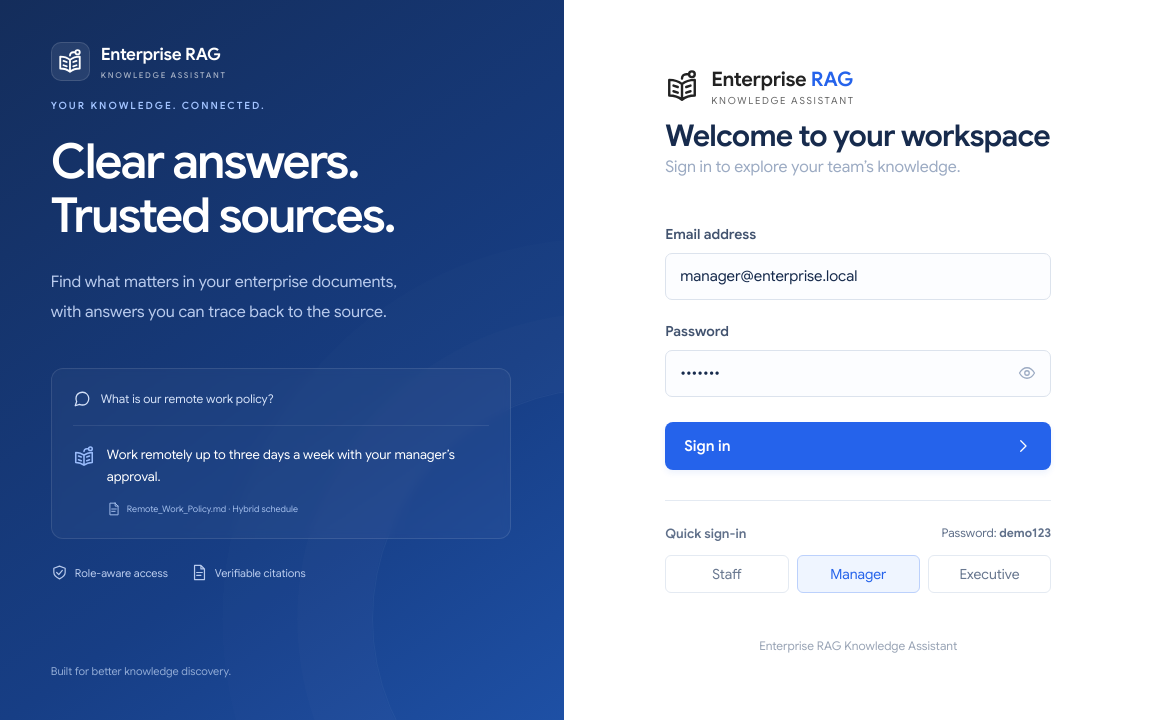
frontend independent workflows › shows a forbidden search error while keeping the user signed in
Click the button "Sign in" at (707, 446), box x1=665 y1=422 x2=1051 y2=470
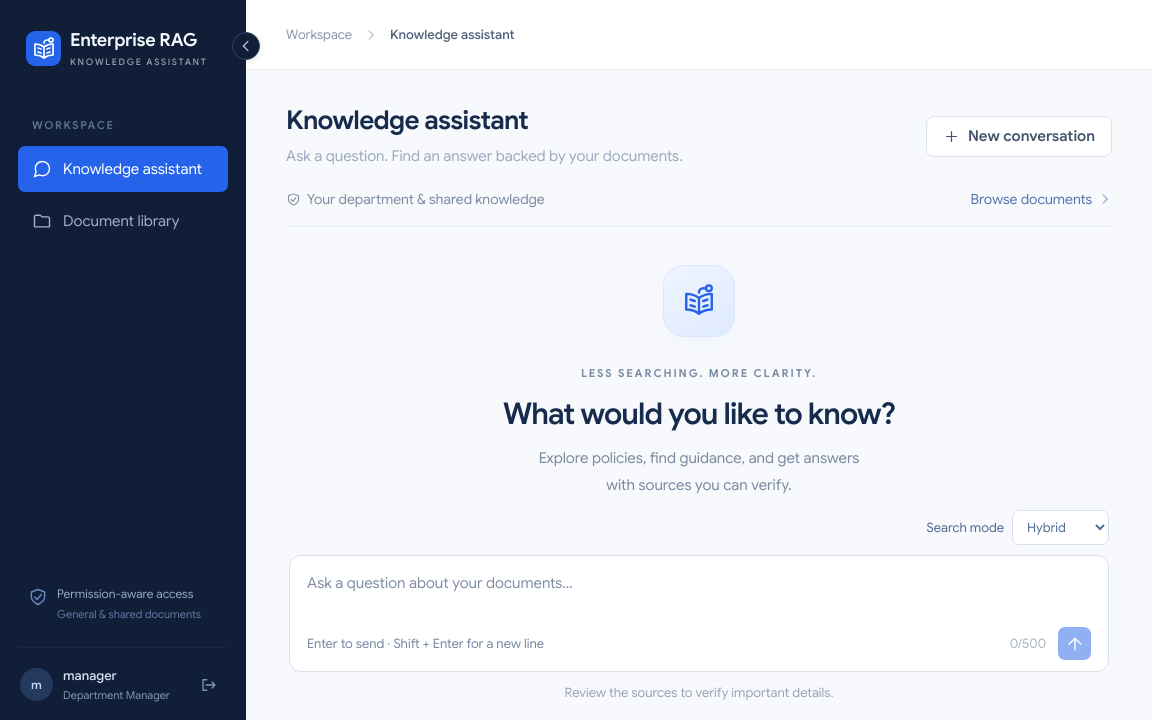
Expected: the heading "Knowledge assistant" is shown, x1=286 y1=104 x2=528 y2=136
Type "annual leave" into the text box labelled "Ask a question about your documents" at (699, 597), box x1=307 y1=571 x2=1091 y2=622
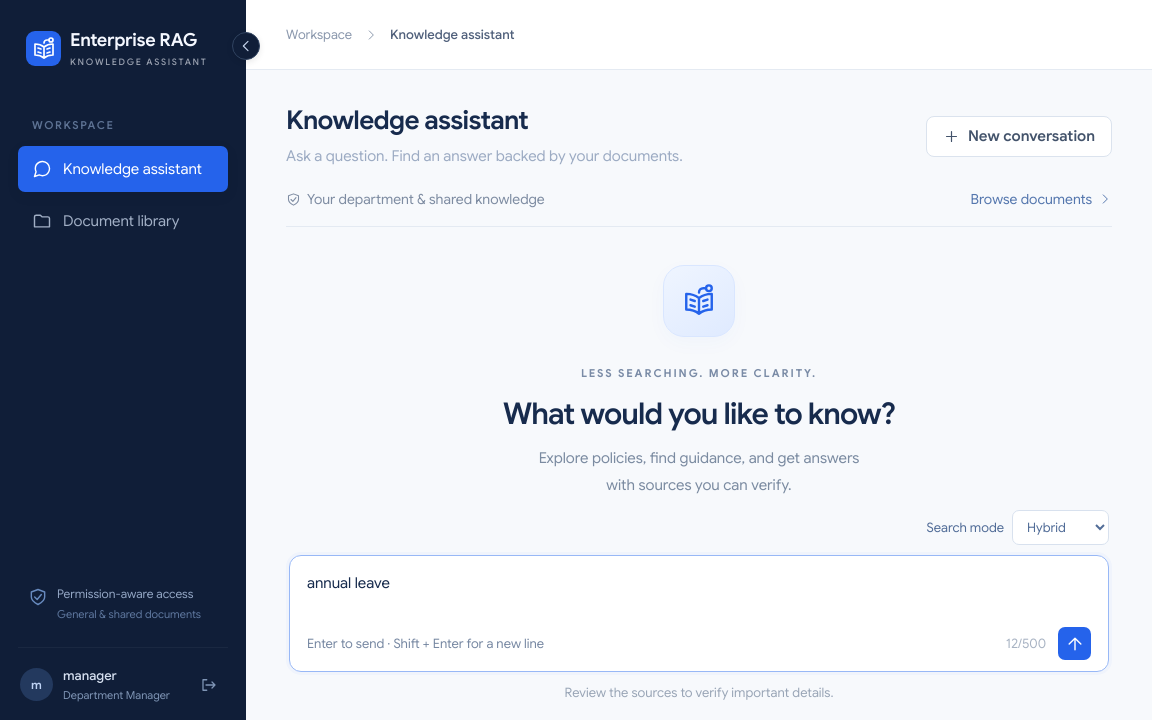
Click the button named "Send question" at (1074, 644), box x1=1058 y1=627 x2=1091 y2=660
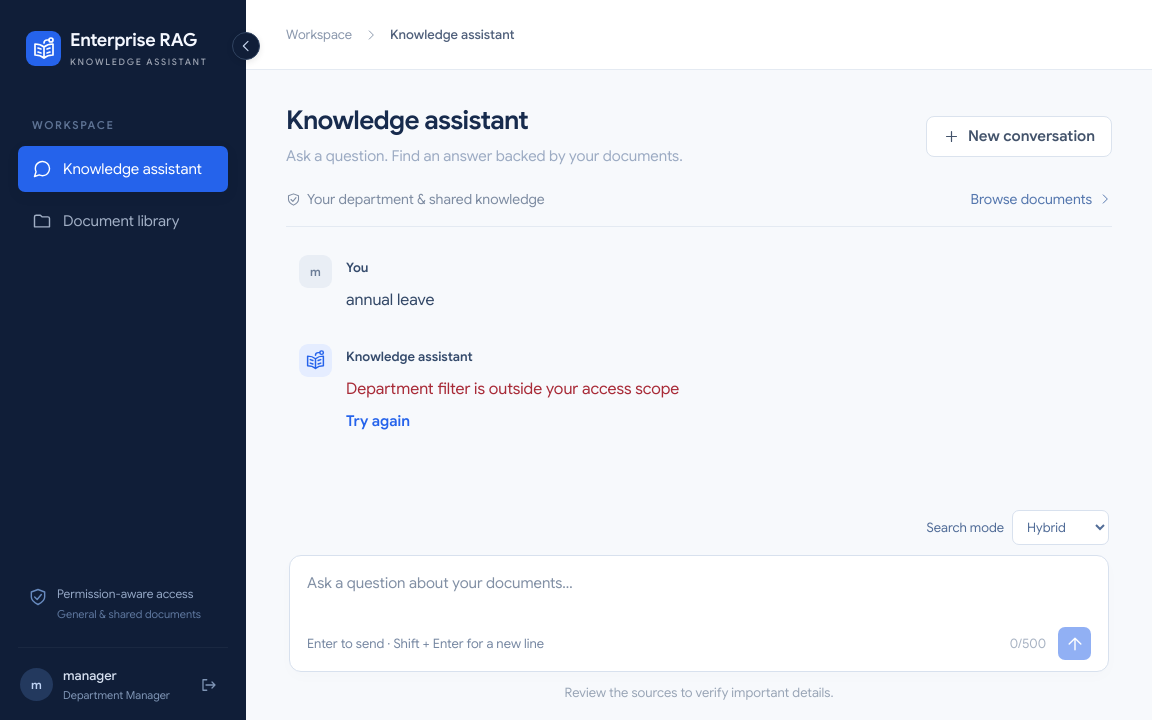
Expected: the text "Sign in" is not shown
Expected: the heading "Knowledge assistant" is shown, x1=286 y1=104 x2=528 y2=136
Expected: the text "Department filter is outside your access scope" is shown, x1=346 y1=379 x2=679 y2=399
